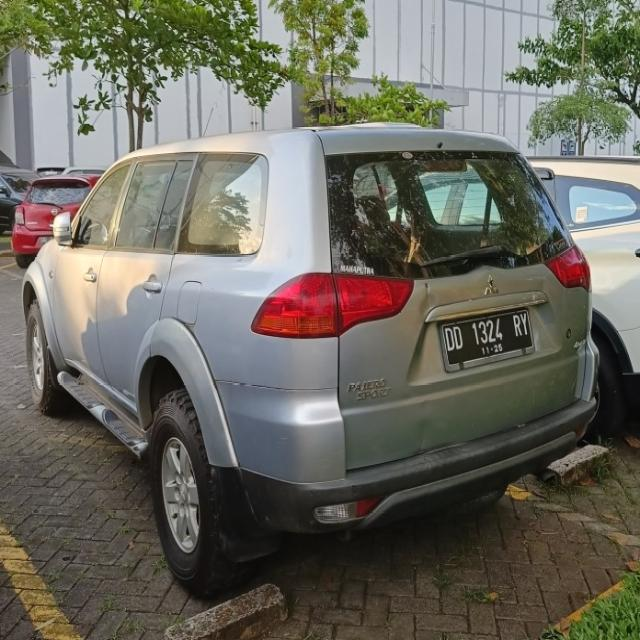plates: (436, 307, 534, 357)
